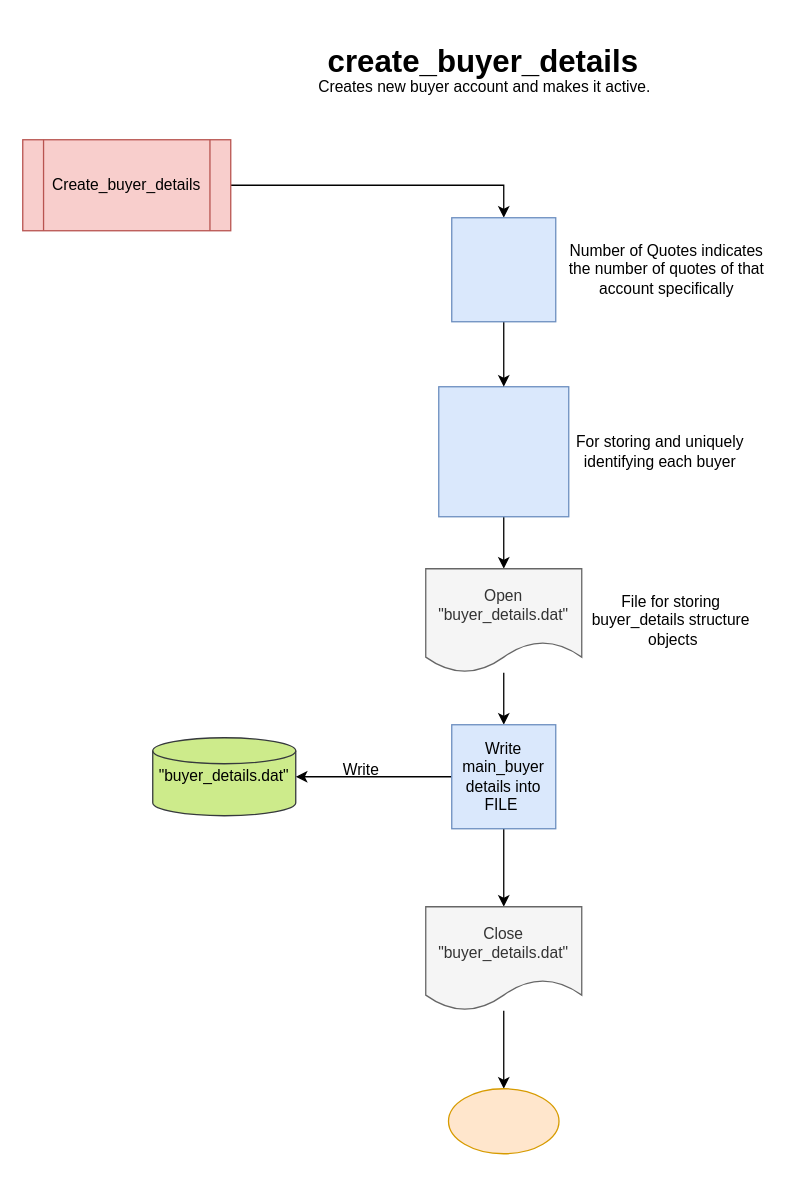
This 800x1177 diagram has some shape labels left out. Here are the shapes that lost their labels. From the top down, the centre of each, then its label:
At point 503,269: "set no_of_quotes on main_buyer as 0".
At point 503,451: "Copy main_buyer name and residence and userID from main_acc".
At point 503,1120: "Terminate Process".
